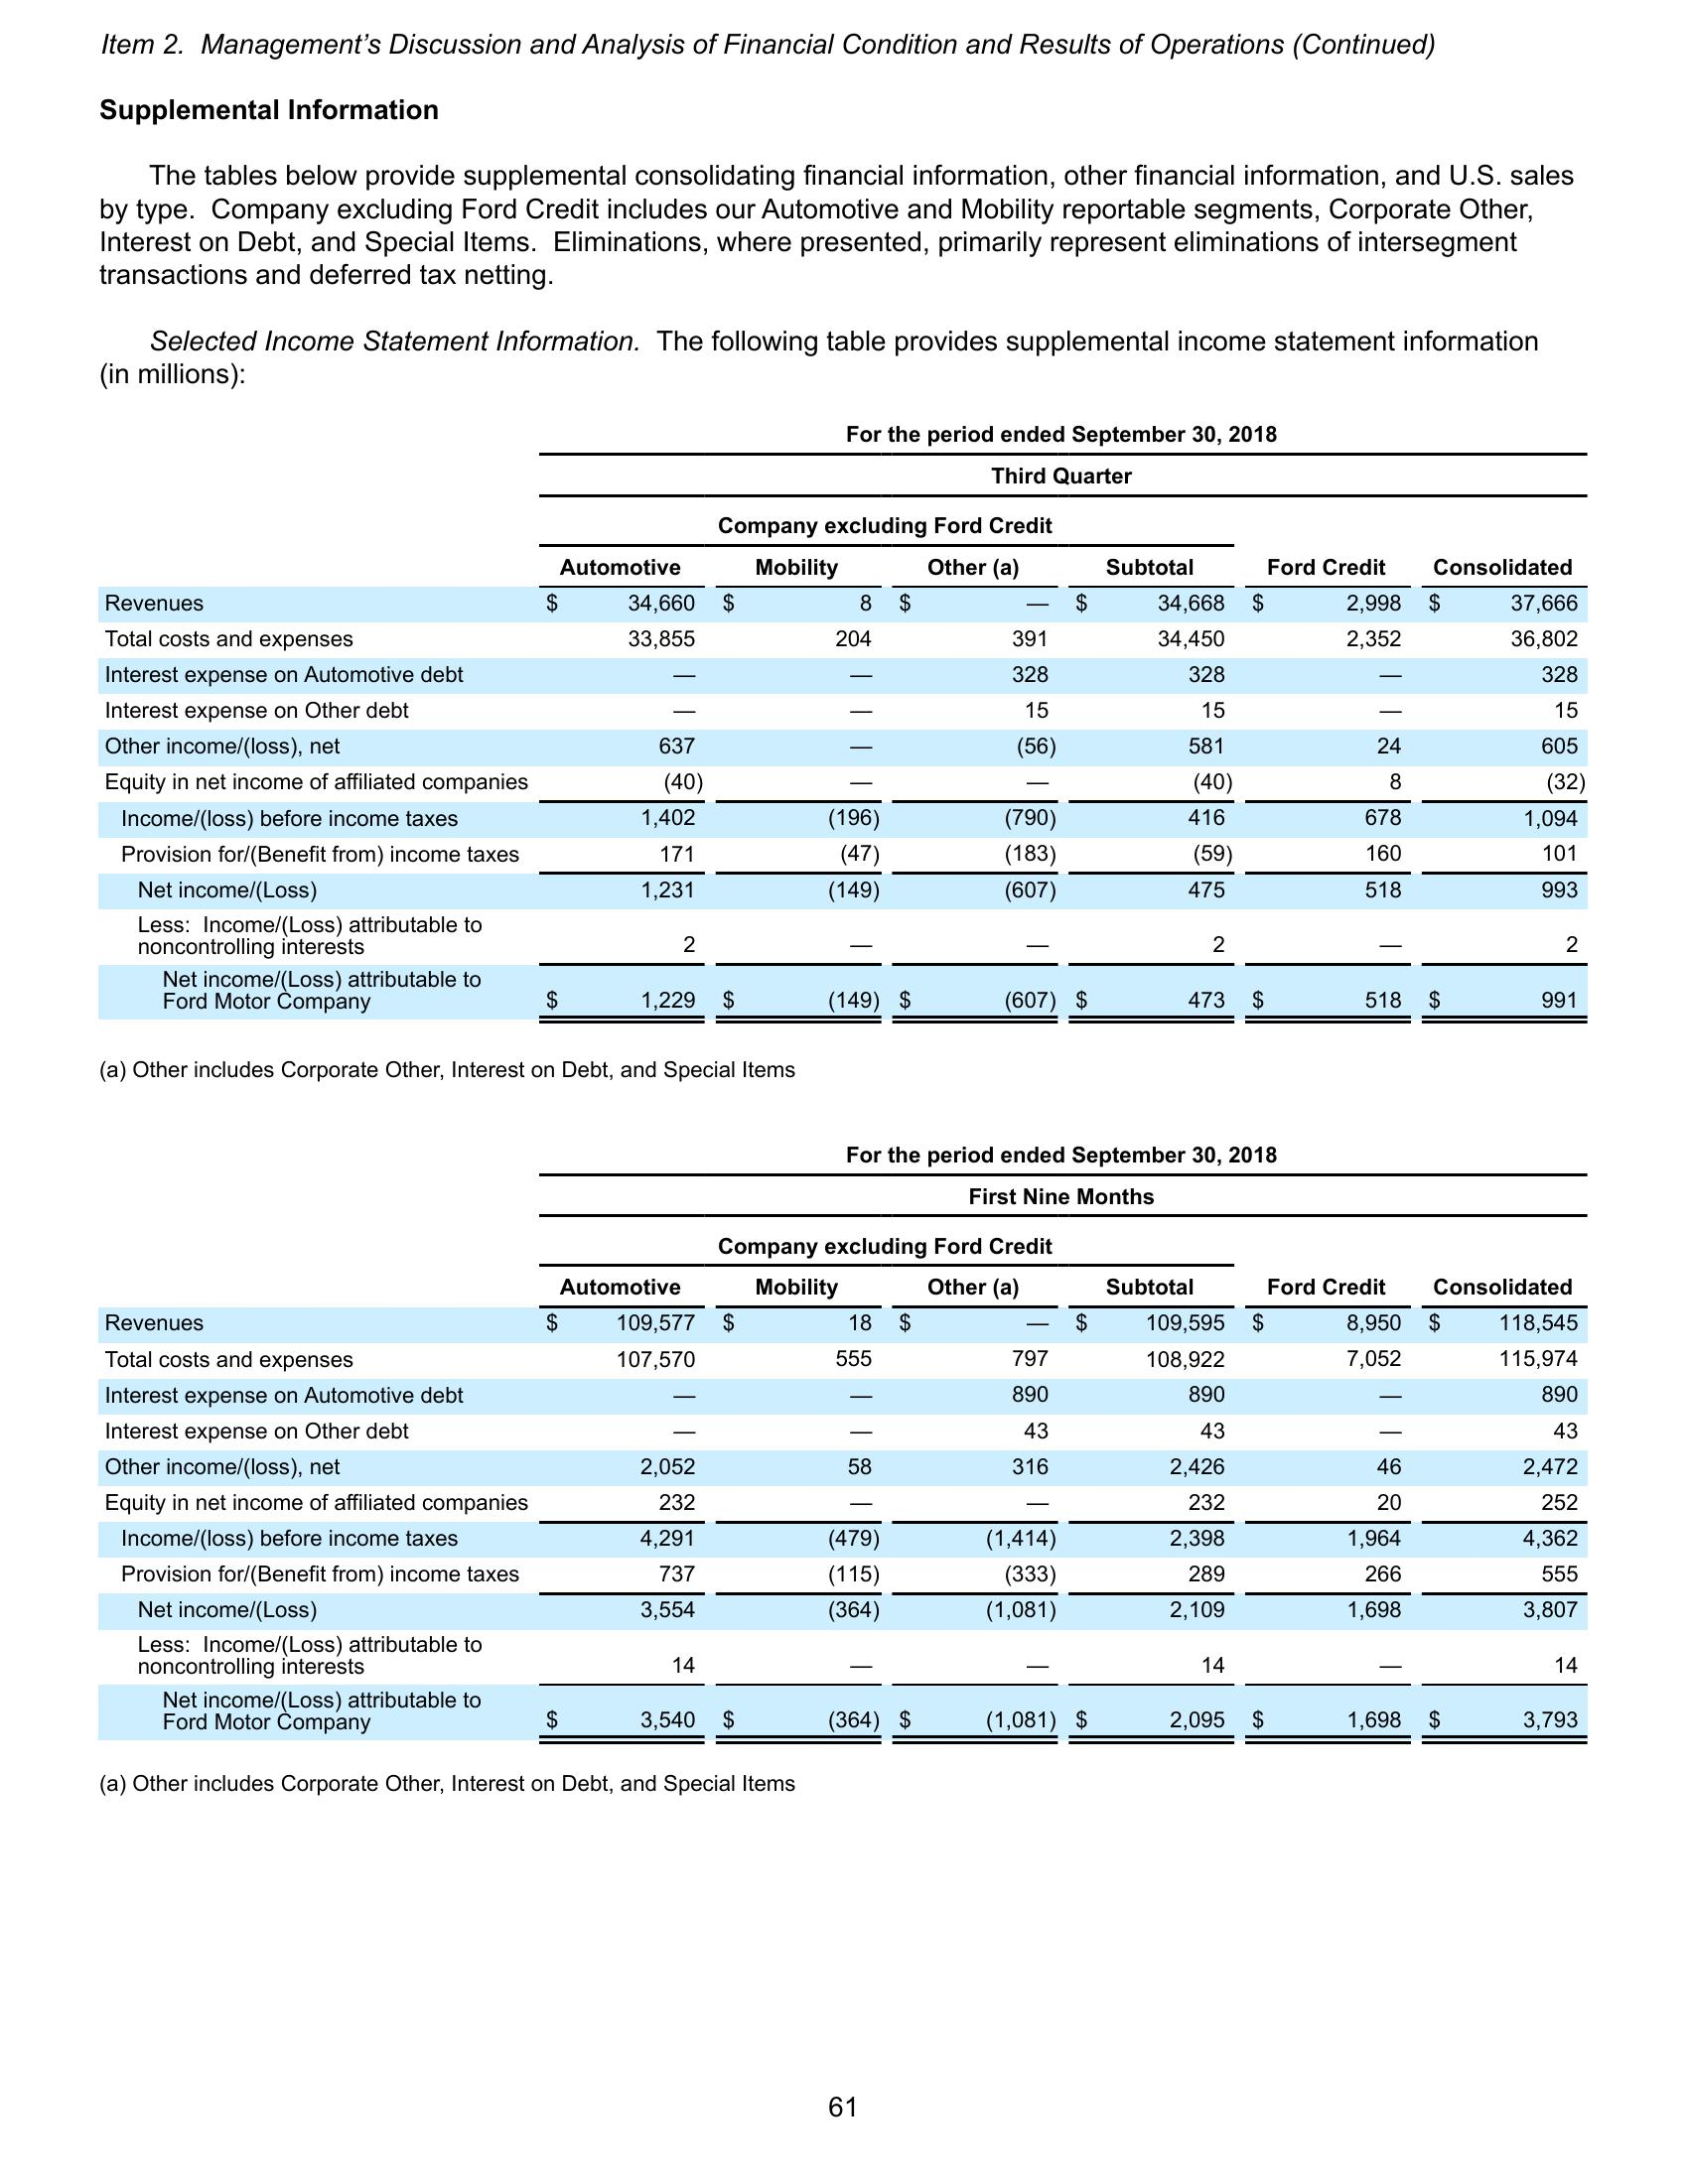table: (87, 417, 1594, 1032), (101, 1135, 1596, 1750)
